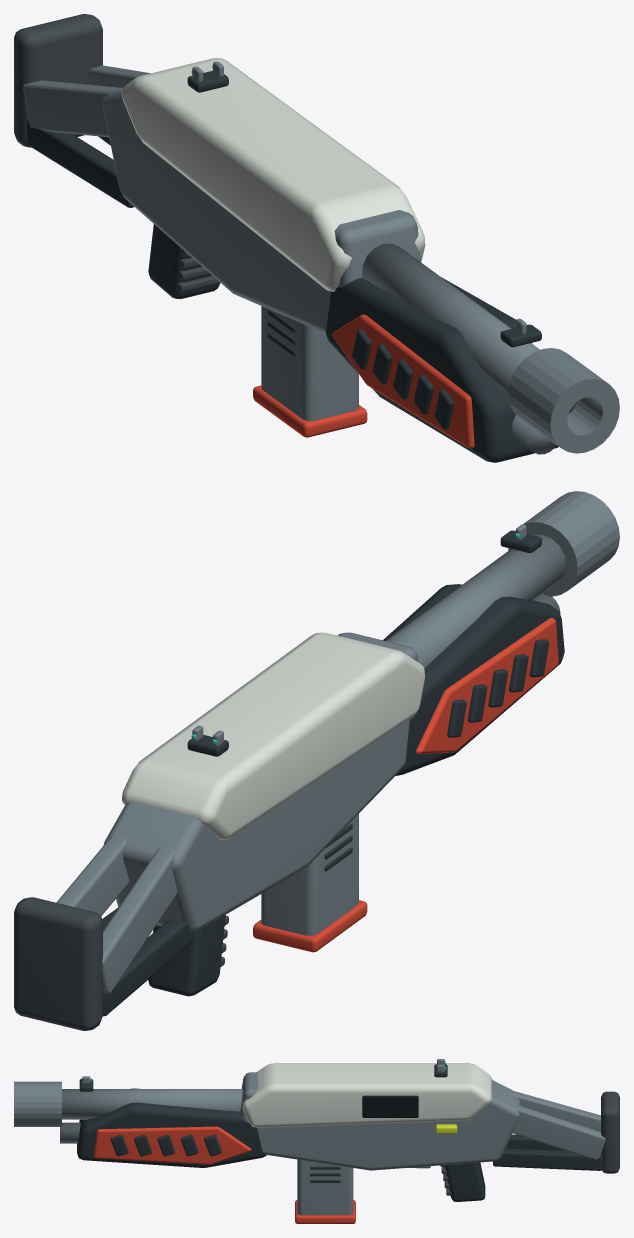
Rendered from breach_shotgun.glb.
3 views of the same model, one above another, from view 1: azimuth 30°, elevation 25°; view 2: azimuth 150°, elevation 25°; view 3: azimuth 270°, elevation 25° (orthographic). The views are drawn at different scales.
Parts seen in each view (by area): view 1: Receiver, Magazine; view 2: Receiver, Magazine; view 3: Receiver, Magazine.
Part boxes in pixels (x1,y1,x2,y2): Receiver: [14, 14, 619, 462]; Magazine: [253, 306, 367, 437]; Receiver: [14, 491, 619, 1030]; Magazine: [253, 814, 367, 952]; Receiver: [14, 1059, 619, 1201]; Magazine: [295, 1159, 355, 1223].
Bounding box in the file's own units: 0.118 × 0.2765 × 0.9865.
